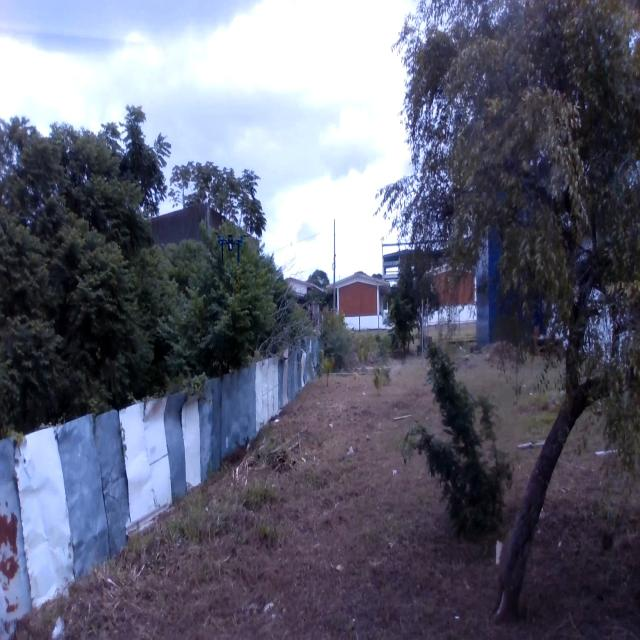-uav-: (212, 223, 252, 276)
